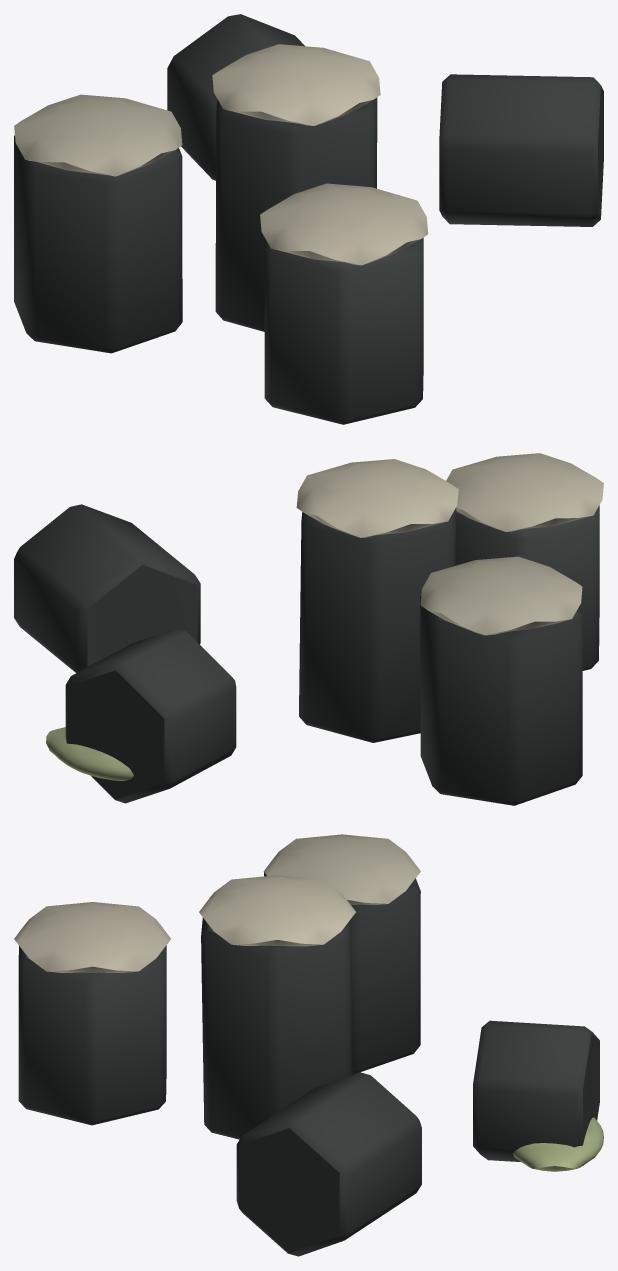
The model's file is column_stubs_c.glb.
The picture shows the model from 3 angles, top to bottom: view 1: azimuth 30°, elevation 25°; view 2: azimuth 150°, elevation 25°; view 3: azimuth 270°, elevation 25°; orthographic projection. The views are drawn at different scales.
Visible parts, largest first — view 1: Surface; view 2: Surface; view 3: Surface.
Boxes of the visible parts, x1,y1,x2,y2 form: Surface: (14, 14, 603, 424); Surface: (14, 453, 603, 805); Surface: (14, 834, 603, 1256).
Size of the model in its own units: 3.37 by 1.35 by 3.19.
